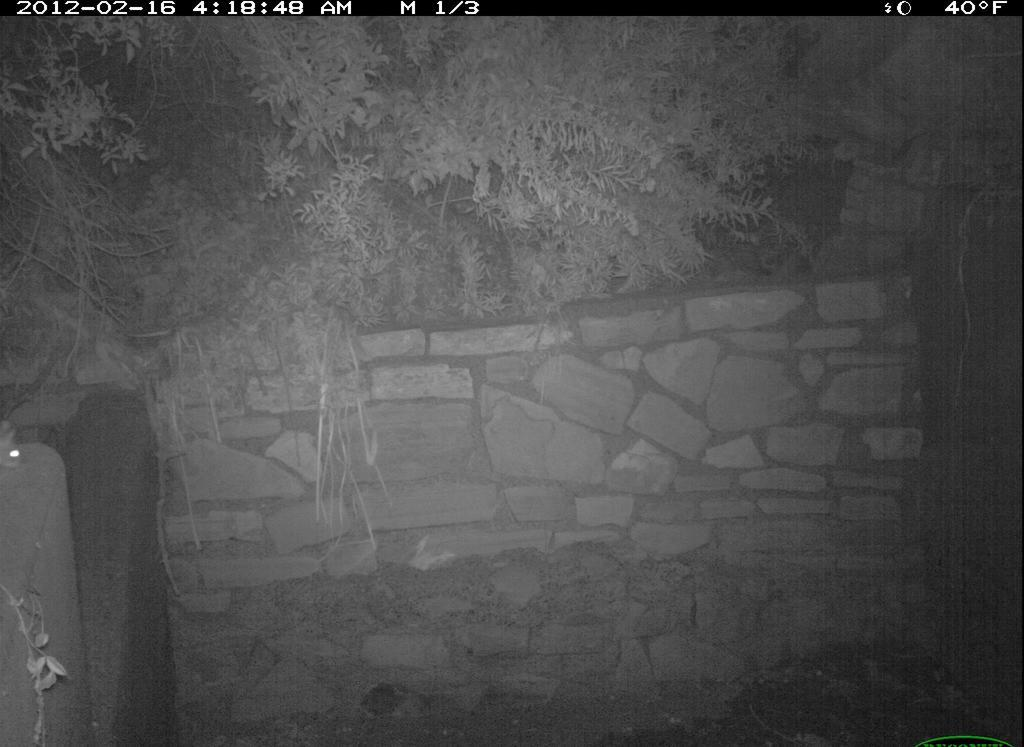rodent: (2, 413, 27, 478)
